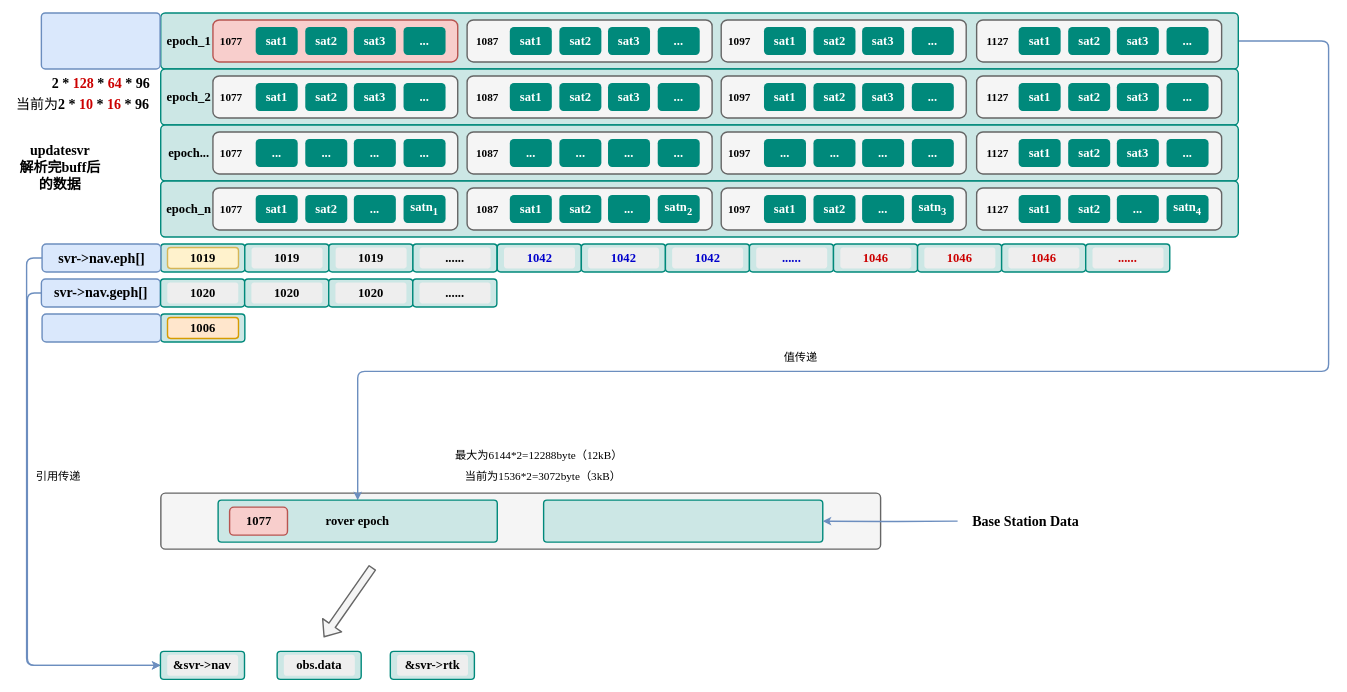
This 1347x692 diagram has some shape labels left out. The shapes that lost their labels are listed below. From the top down, each one's centre as x and y in pixels, then its label:
At point 100,40: "svr->obs[] (obs[epoch_n][sat_n])".
At point 101,327: "svr->rtk.rb".
At point 683,520: "base epoch".
